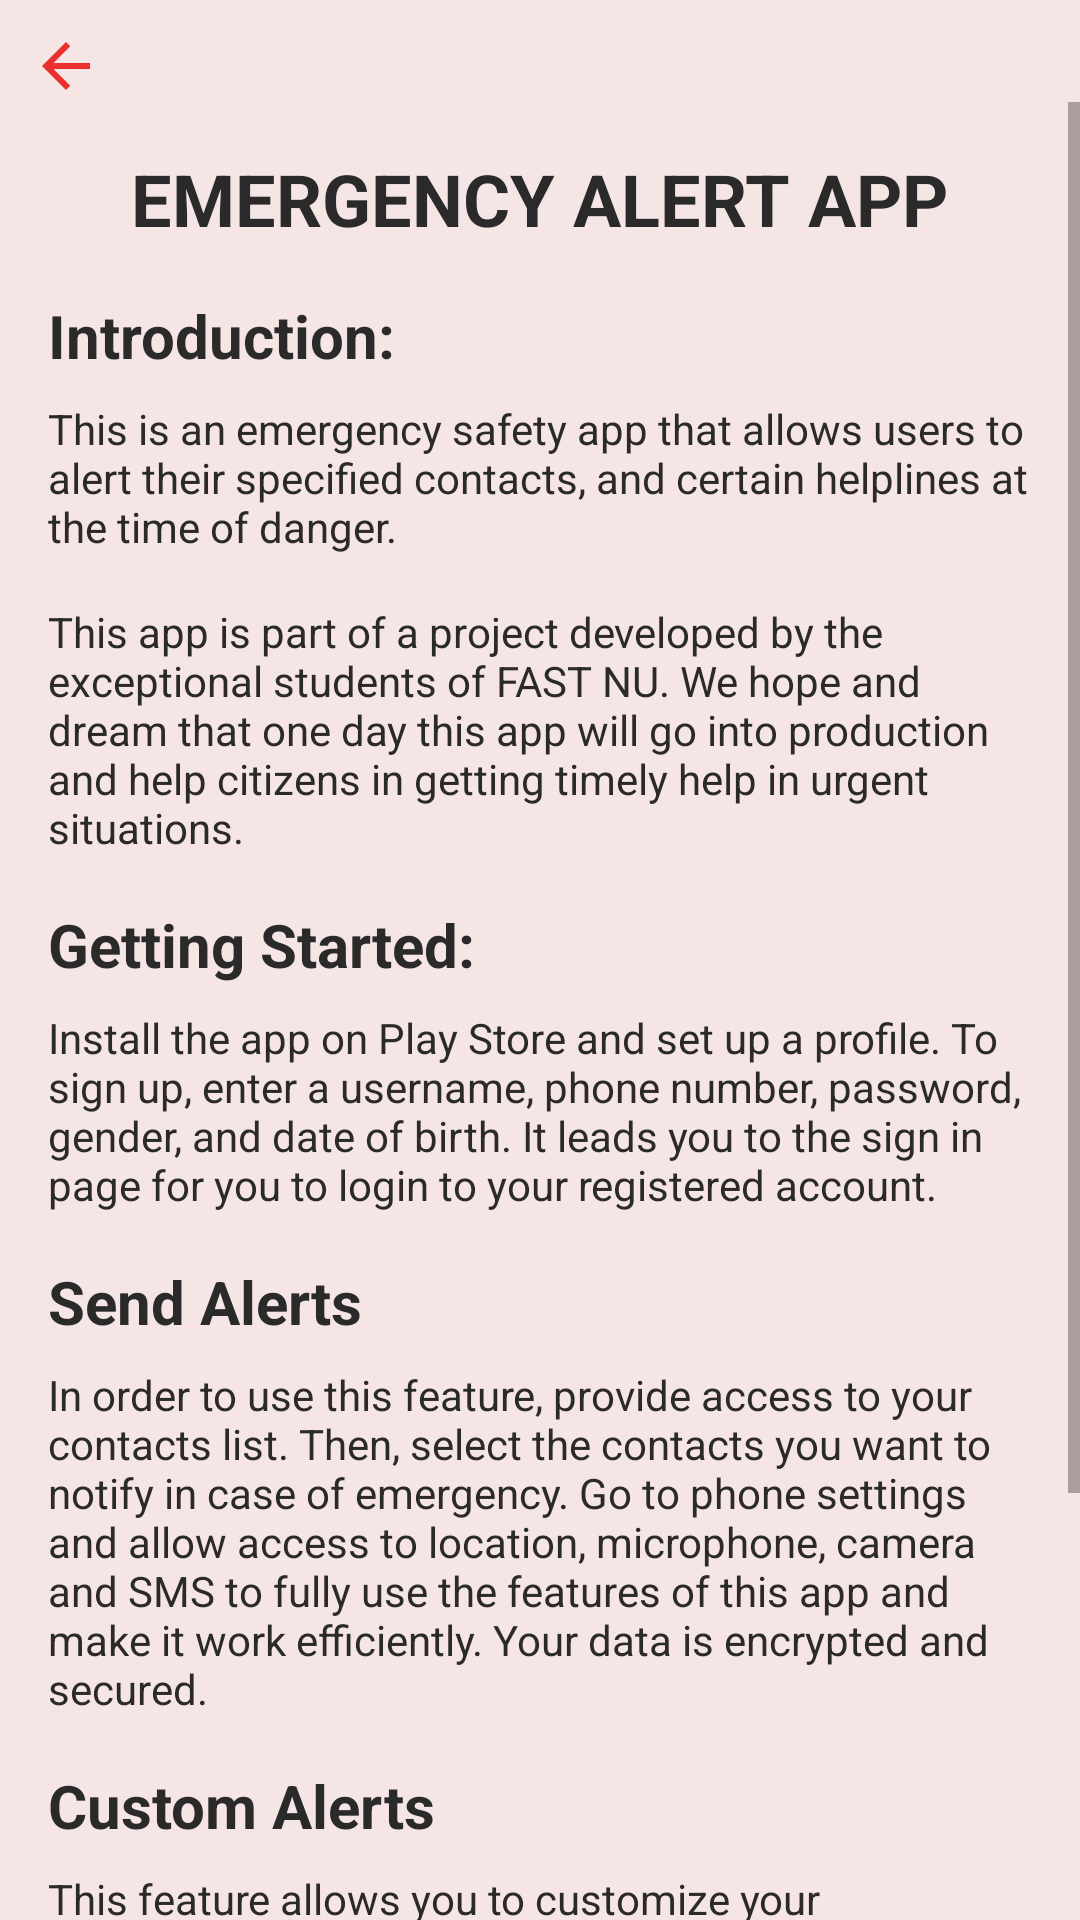

Icons on this 1080px×1920px Android screen, each with its box as [x1,y1,x2,y2]:
back: [42,42,90,90]
